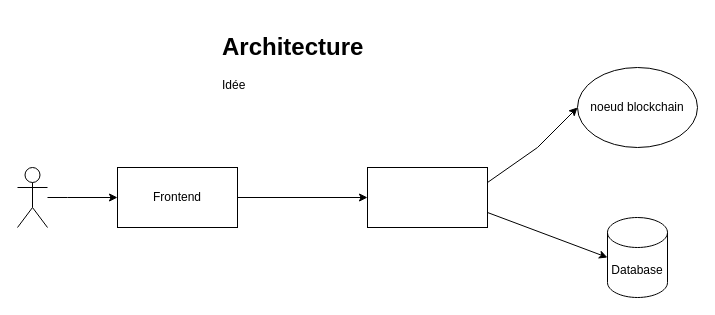
This 715x315 diagram has some shape labels left out. Each missing label, with the centre of its shape:
"Backend" goes at (427,197).
"Client" goes at (32,197).
